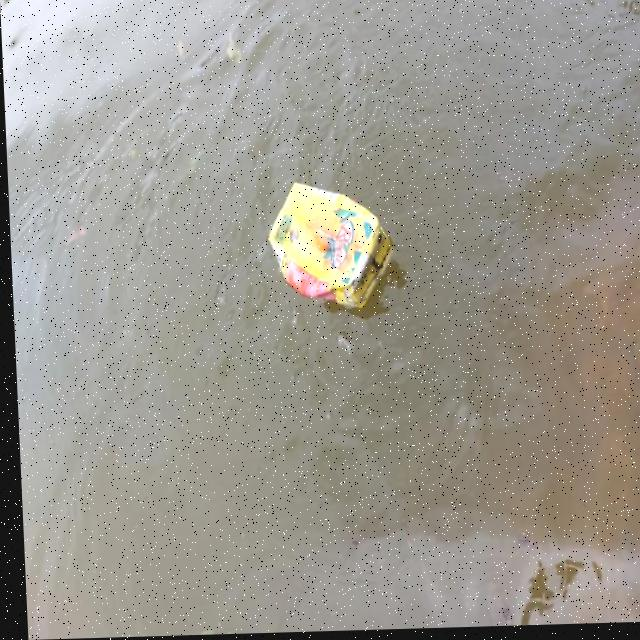paper: (240, 160, 412, 346)
